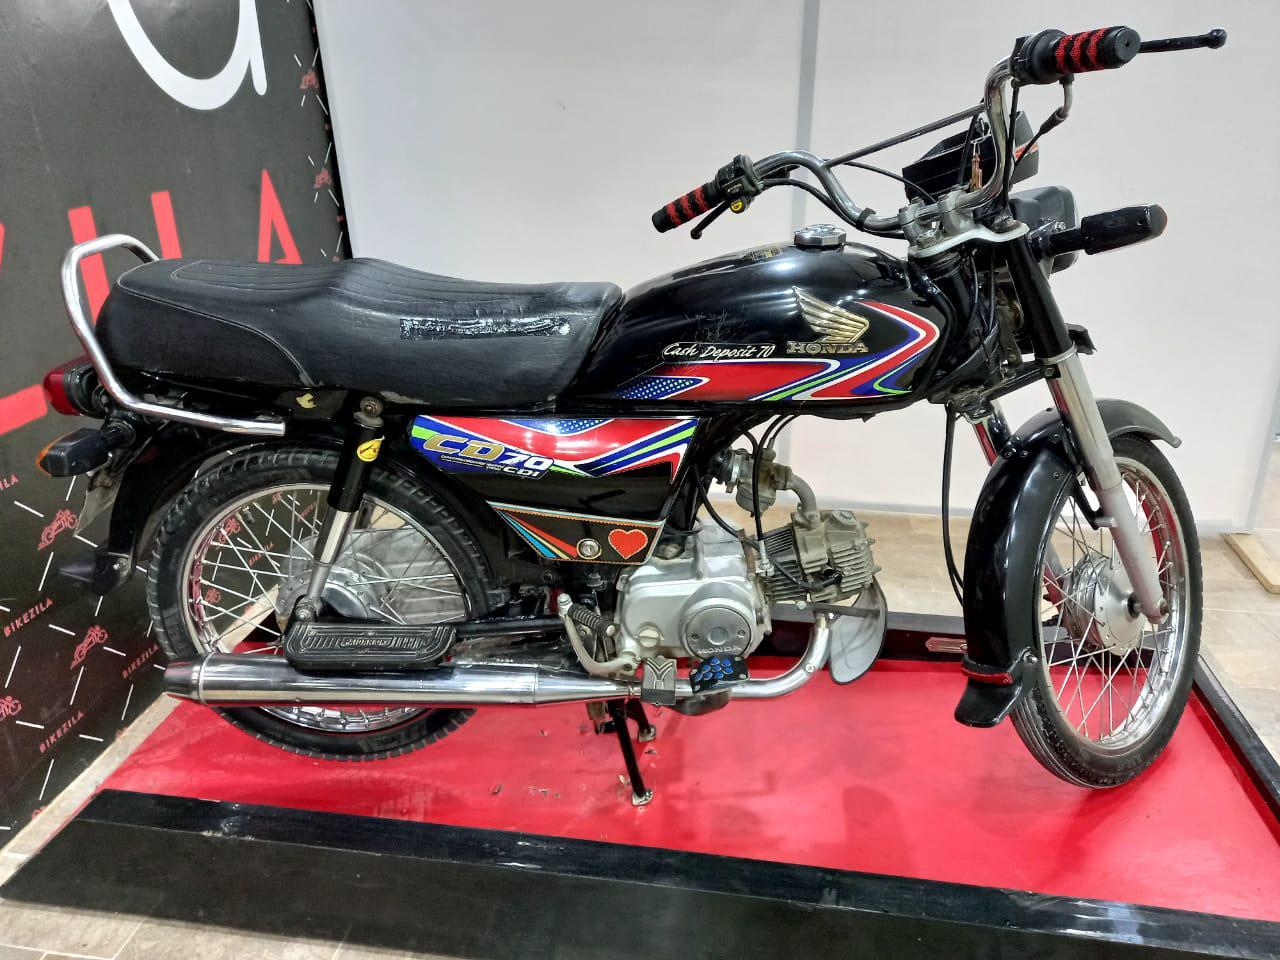bike: (41, 18, 1225, 814)
